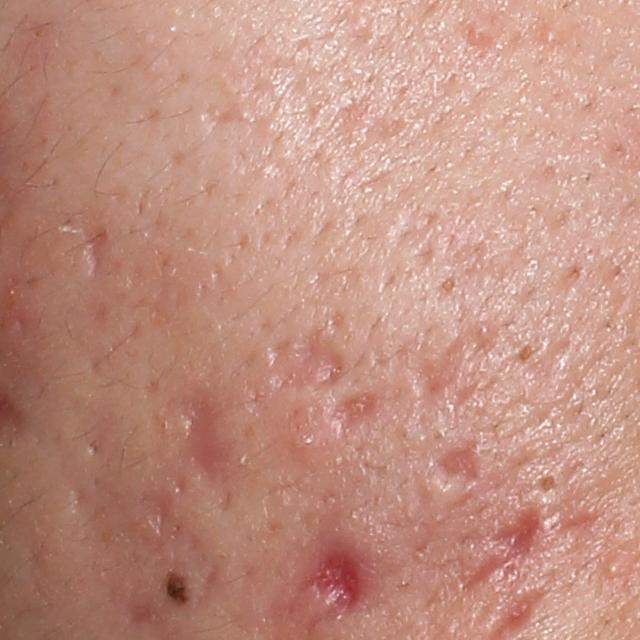atrophic_scar: (297, 545, 366, 632), (172, 400, 229, 493), (264, 330, 337, 398), (417, 340, 466, 403), (326, 392, 385, 439), (326, 94, 375, 149), (433, 444, 487, 493), (488, 508, 541, 554), (461, 551, 519, 588), (142, 491, 178, 539), (199, 103, 243, 130), (86, 226, 106, 279)
comedo: (537, 473, 568, 495), (439, 272, 461, 293), (539, 28, 561, 46), (603, 561, 625, 576)
nevus: (153, 566, 196, 609)
